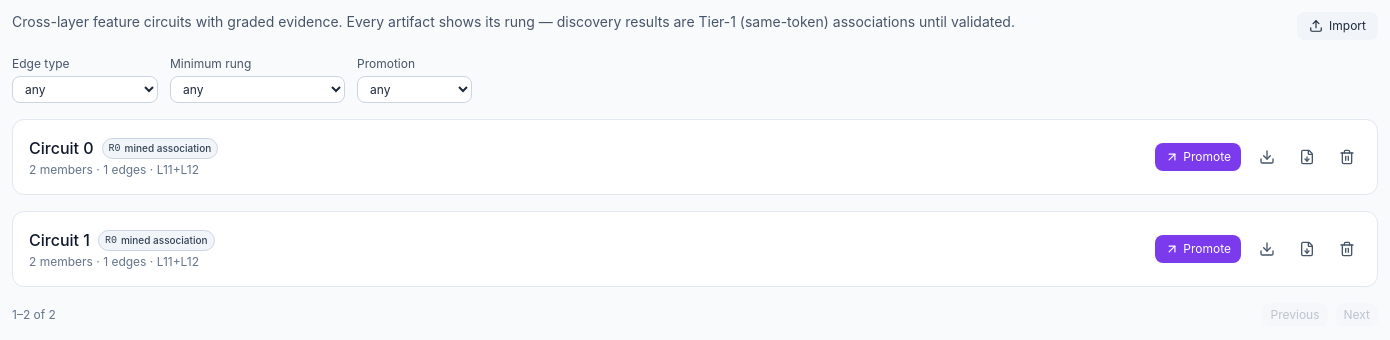
it: CircuitsListTab is driven by the store › an empty filtered page says the filters matched nothing, not "no circuits yet"
Check: the text "1–2 of 2" is shown, box 12,307 -> 56,323
Select "3 · faithfulness-tested" in the dropdown named "Filter by minimum evidence rung" at (258,90), box 170,76 -> 345,103
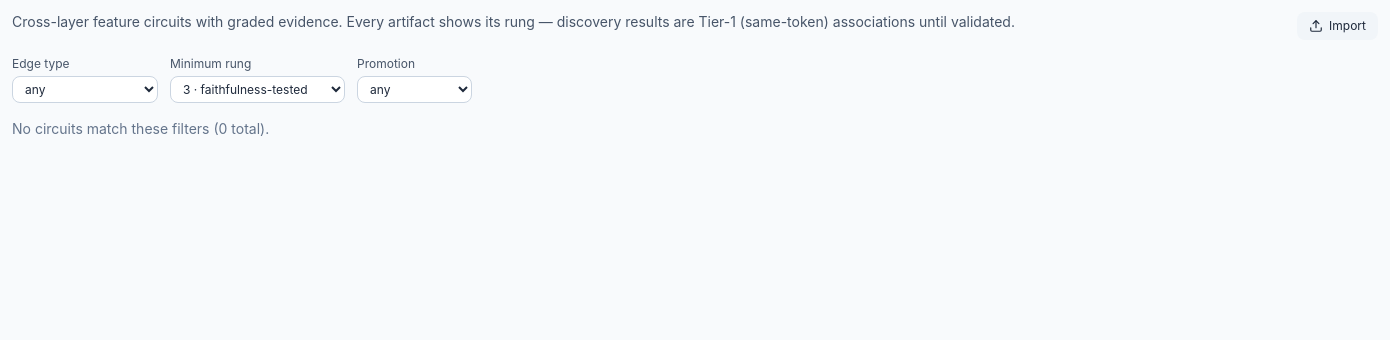
Check: the text "No circuits match these filters (0 total)." is shown, box 12,120 -> 269,137
